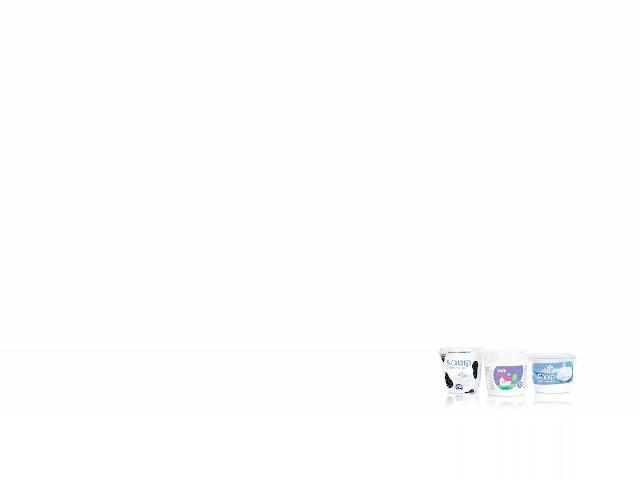cotage: (528, 348, 577, 399)
